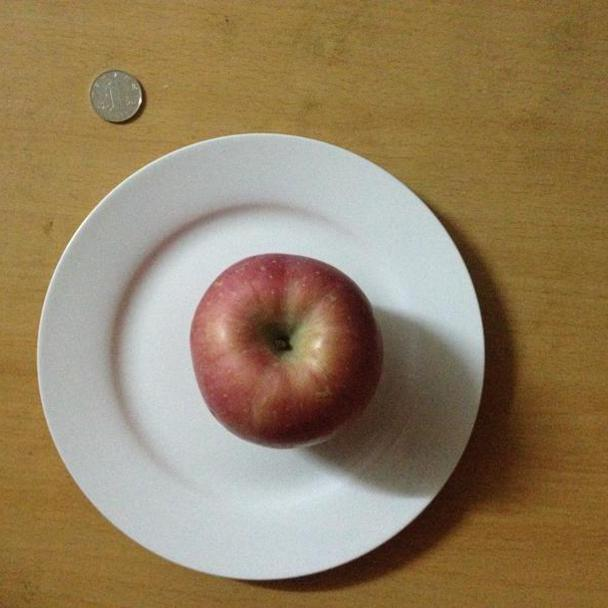apple: (189, 254, 382, 449)
